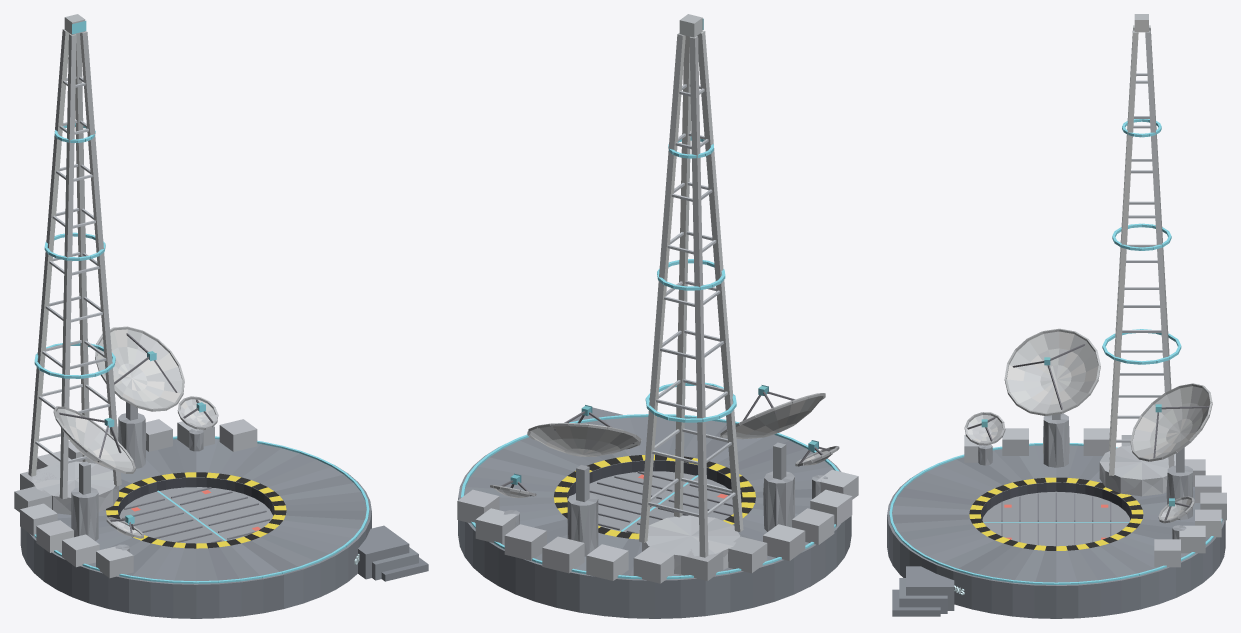
Rendered from orbital_compound.glb.
3 renders of one model, left to right at view 1: azimuth 30°, elevation 25°; view 2: azimuth 150°, elevation 25°; view 3: azimuth 270°, elevation 25°, orthographic. The views are drawn at different scales.
Parts seen in each view (by area): view 1: hq_orbital_toon, hq_orbital_neon; view 2: hq_orbital_toon, hq_orbital_neon; view 3: hq_orbital_toon, hq_orbital_neon.
Part boxes in pixels (x1,y1,x2,y2): hq_orbital_toon: [14, 14, 428, 618]; hq_orbital_neon: [34, 21, 369, 583]; hq_orbital_toon: [457, 14, 858, 618]; hq_orbital_neon: [461, 18, 838, 579]; hq_orbital_toon: [887, 14, 1226, 618]; hq_orbital_neon: [889, 119, 1222, 584].
Bounding box in the file's own units: 56.2 × 90.2 × 56.2.
